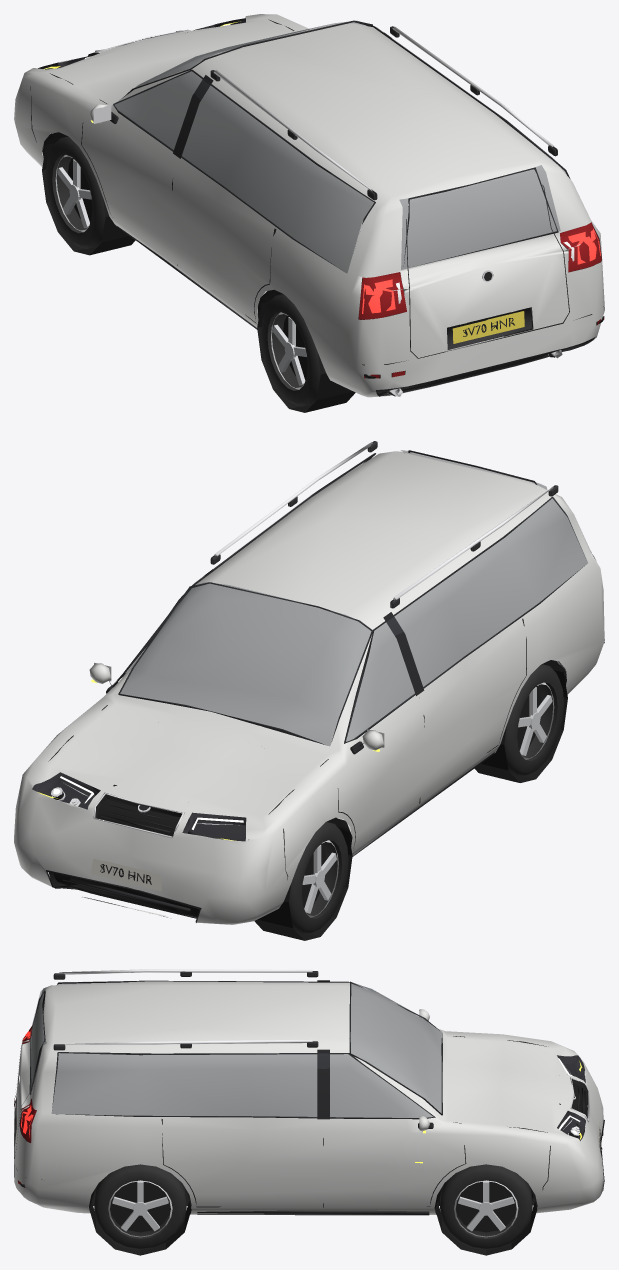
The model's file is car_suv.glb.
3 views of the same model, one above another, from view 1: azimuth 30°, elevation 25°; view 2: azimuth 150°, elevation 25°; view 3: azimuth 270°, elevation 25° (orthographic). The views are drawn at different scales.
Parts seen in each view (by area): view 1: car; view 2: car; view 3: car.
Part boxes in pixels (<box>): car: <box>14,14,604,412</box>; car: <box>14,441,604,940</box>; car: <box>14,969,604,1255</box>.
Bounding box in the file's own units: 2.11 × 1.74 × 4.6.
